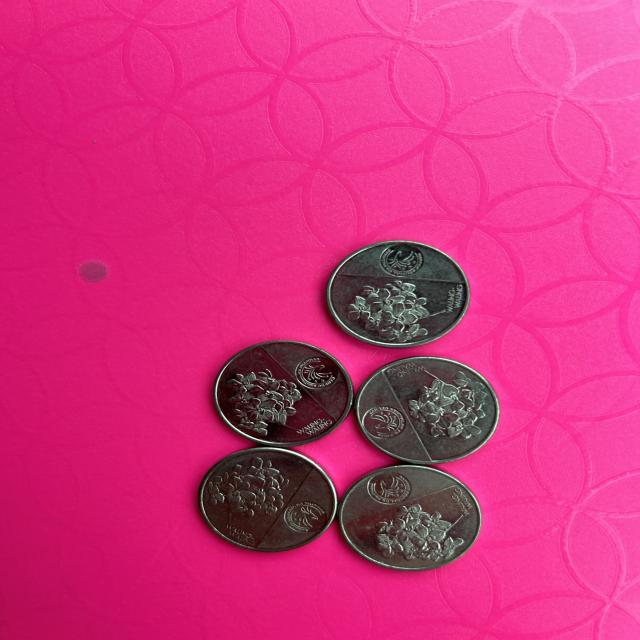1_New_Back: (397, 366, 485, 435), (340, 277, 427, 344), (367, 504, 459, 561), (217, 367, 300, 430), (207, 458, 289, 514)
